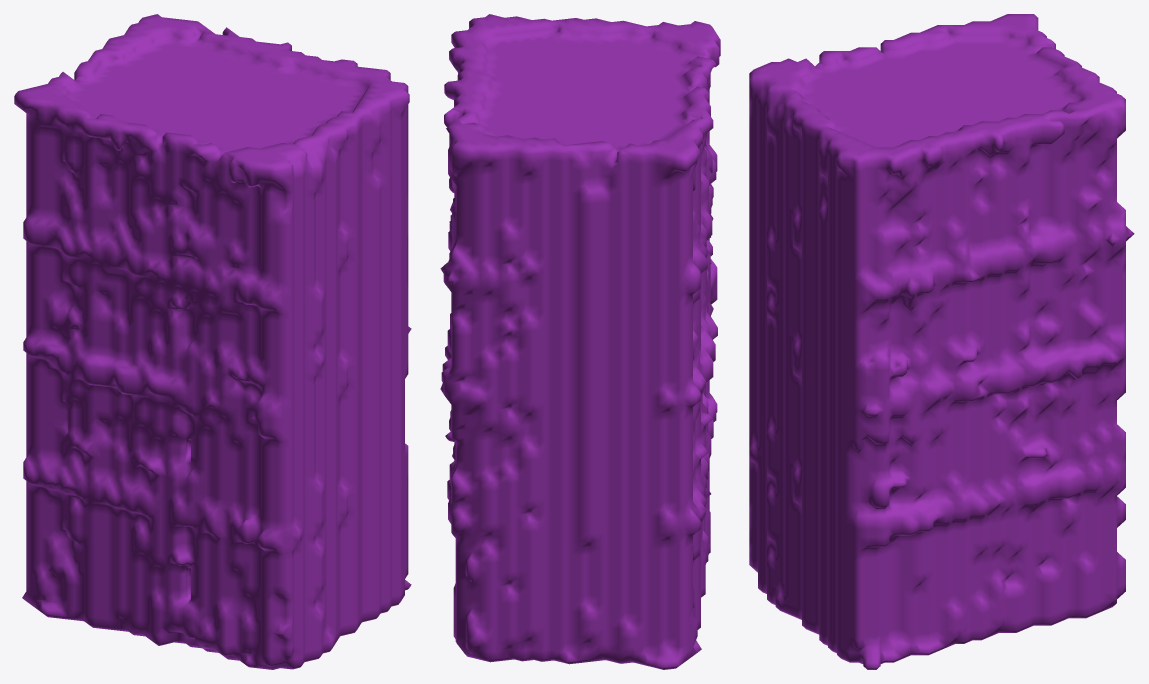
Rendered from gen3_colored.obj.
The picture shows the model from 3 angles, left to right: view 1: azimuth 30°, elevation 25°; view 2: azimuth 150°, elevation 25°; view 3: azimuth 270°, elevation 25°; orthographic projection.
Parts seen in each view (by area): view 1: gen3.obj; view 2: gen3.obj; view 3: gen3.obj.
Boxes of the visible parts, x1=… form: gen3.obj: x1=14, y1=14, x2=411, y2=669; gen3.obj: x1=440, y1=14, x2=720, y2=669; gen3.obj: x1=749, y1=14, x2=1134, y2=669.
Bounding box in the file's own units: 41 × 64 × 44.
